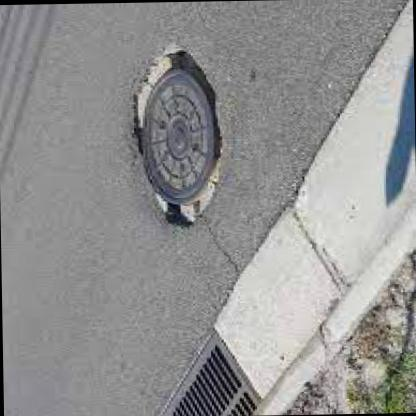manholes: (122, 35, 240, 235)
